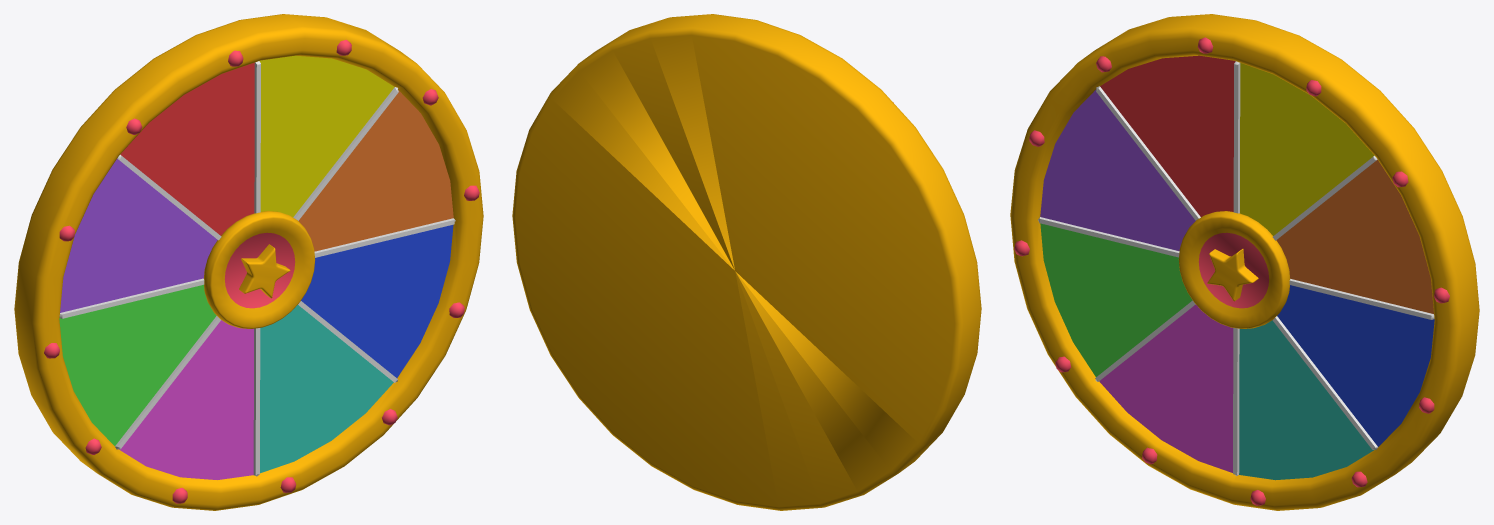
The model's file is wheel.glb.
3 views of the same model, side by side, from view 1: azimuth 30°, elevation 25°; view 2: azimuth 150°, elevation 25°; view 3: azimuth 330°, elevation 25° (orthographic).
Parts seen in each view (by area): view 1: spin_wheel; view 2: spin_wheel; view 3: spin_wheel.
Part boxes in pixels (x1,y1,x2,y2): spin_wheel: (14,14,483,510); spin_wheel: (512,14,981,510); spin_wheel: (1010,14,1479,510).
Size of the model in its own units: 1.96 by 1.96 by 0.2204.
